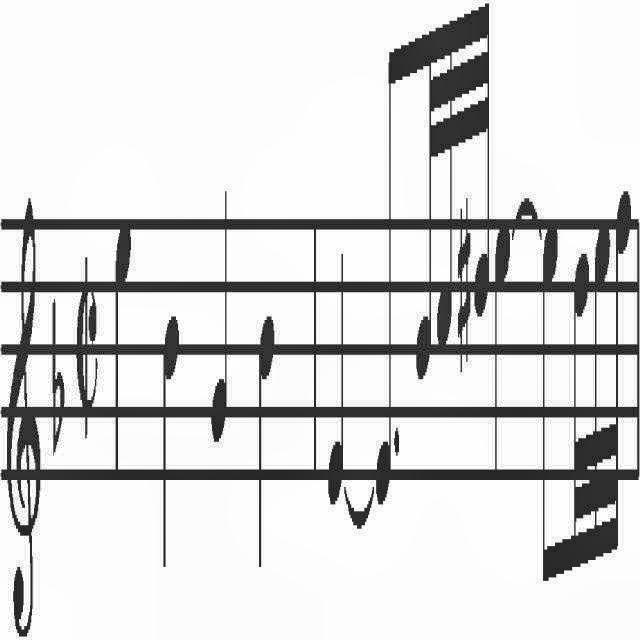Bass-clef: (1, 176, 42, 640)
Bemol: (50, 287, 70, 463)
Diez: (456, 191, 472, 365)
Eighth-note: (372, 13, 396, 535), (540, 211, 566, 594)
Quarter-note: (206, 191, 234, 474), (321, 226, 347, 514), (159, 308, 183, 568), (253, 310, 273, 598), (110, 201, 130, 484), (492, 204, 510, 483)
